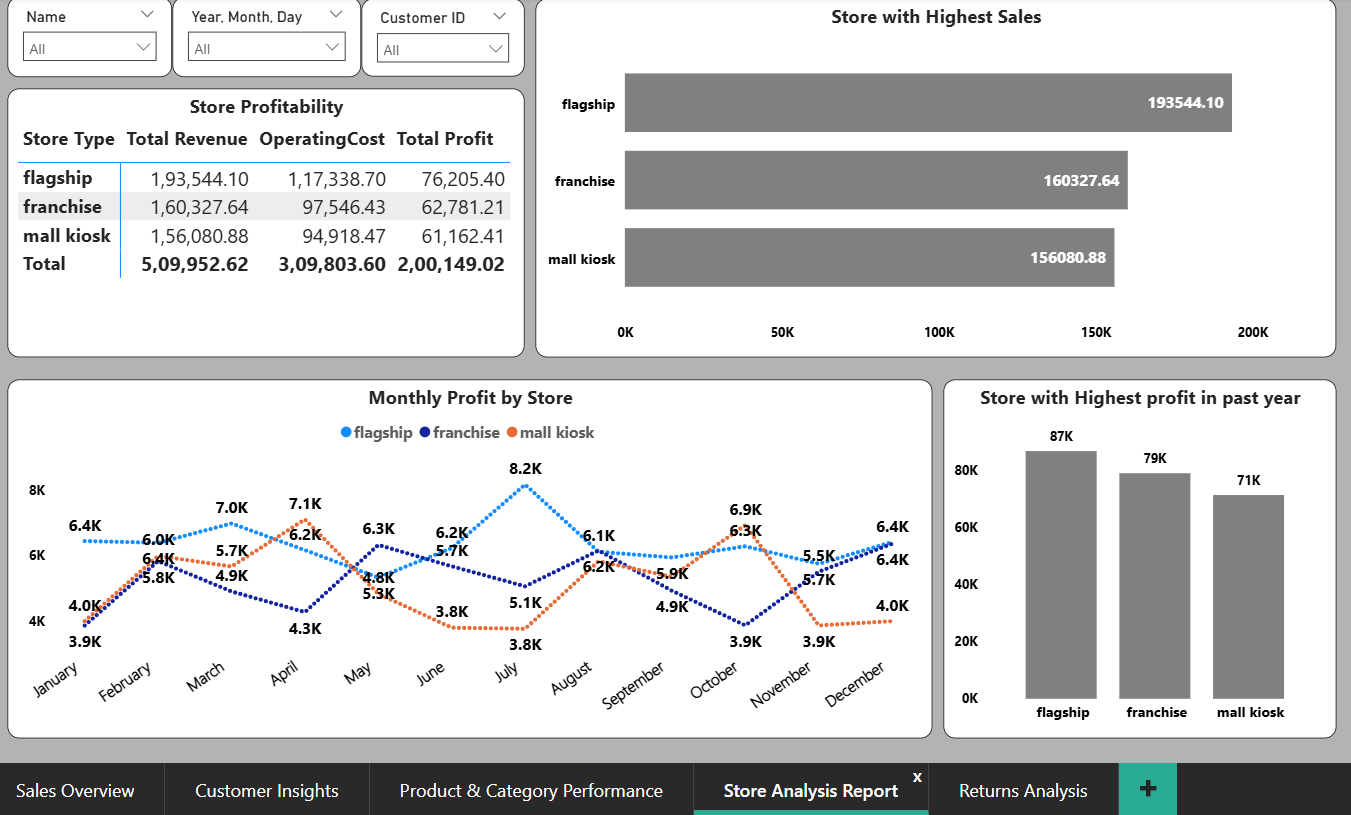

What the dashboard file says about the page in this screenshot:
{"tool":"powerbi","page":{"name":"Store Analysis Report ","canvas":[1280,720],"ordinal":3},"visuals":[{"type":"pivotTable","title":"Store Profitability","fields":{"Rows":["retail_store stores.store_type"],"Values":["retail_store customers.Total Revenue","retail_store customers.OperatingCost","retail_store customers.Total Profit"]},"box":[12.8,86.3,485.7,252.4],"z":0},{"type":"clusteredBarChart","title":"Store with Highest Sales","fields":{"Y":["retail_store customers.Total Revenue"],"Category":["retail_store stores.store_type"]},"box":[509.7,1.6,752.5,337.1],"z":1000},{"type":"slicer","fields":{"Values":["retail_store customers.first_name"]},"box":[12.8,0,155,75.1],"z":2000},{"type":"slicer","fields":{"Values":["retail_store customers.signup_date.Variation.Date Hierarchy.Year","retail_store customers.signup_date.Variation.Date Hierarchy.Month","retail_store customers.signup_date.Variation.Date Hierarchy.Day"]},"box":[167.8,0,177.3,75.1],"z":3000},{"type":"slicer","fields":{"Values":["retail_store customers.customer_id"]},"box":[345.1,1.6,153.4,73.5],"z":4000},{"type":"lineChart","title":"Monthly Profit by Store ","fields":{"Series":["retail_store stores.store_type"],"Category":["retail_store sales.order_date.Variation.Date Hierarchy.Month"],"Y":["retail_store customers.Total Profit"]},"box":[12.8,359.5,869.1,337.1],"z":5000},{"type":"columnChart","title":"Store with Highest profit in past year","fields":{"Category":["retail_store stores.store_type"],"Y":["retail_store sales.Total Revenue Last 12 Months"]},"box":[893.1,359.5,369.1,337.1],"z":6000}]}

Visuals, with their boxes on the page's 1280x720 design canvas (x1, y1, x2, y2). These are canvas units, not pixel positions in the 1351x815 screenshot, which may show the page scaled, cropped or inside an application window:
"Store Profitability" pivotTable: box(13, 86, 498, 339)
"Store with Highest Sales" clusteredBarChart: box(510, 2, 1262, 339)
slicer - retail_store customers.first_name: box(13, 0, 168, 75)
slicer - retail_store customers.signup_date.Variation.Date Hierarchy.Year x retail_store customers.signup_date.Variation.Date Hierarchy.Month: box(168, 0, 345, 75)
slicer - retail_store customers.customer_id: box(345, 2, 498, 75)
"Monthly Profit by Store " lineChart: box(13, 360, 882, 697)
"Store with Highest profit in past year" columnChart: box(893, 360, 1262, 697)
